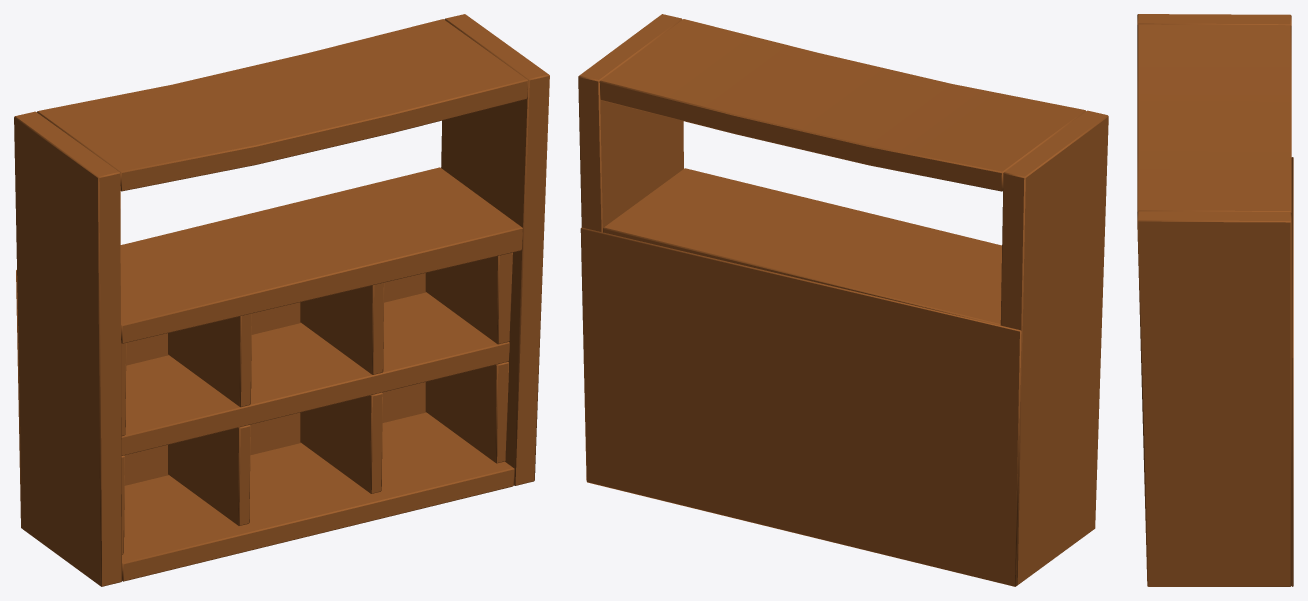
Rendered from File_cabinet.fbx.
3 renders of one model, left to right at view 1: azimuth 30°, elevation 25°; view 2: azimuth 150°, elevation 25°; view 3: azimuth 270°, elevation 25°, orthographic. The views are drawn at different scales.
Visible parts, largest first — view 1: File_cabinet; view 2: File_cabinet; view 3: File_cabinet.
Part boxes in pixels (x1,y1,x2,y2): File_cabinet: [14, 14, 549, 586]; File_cabinet: [578, 14, 1108, 586]; File_cabinet: [1137, 14, 1293, 586].
Size of the model in its own units: 1.54 by 1.36 by 0.5088.
